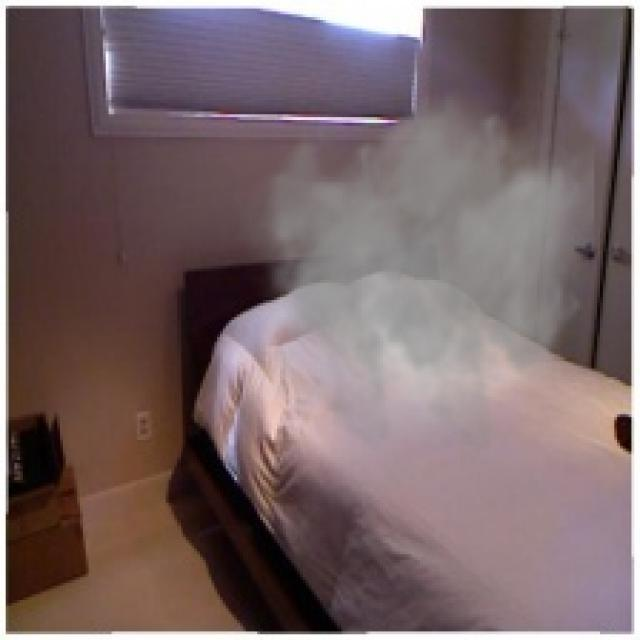Smoke: (232, 82, 594, 454)
